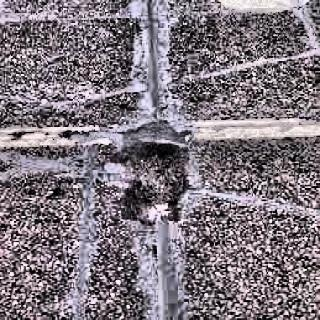pothole: (112, 115, 212, 252)
